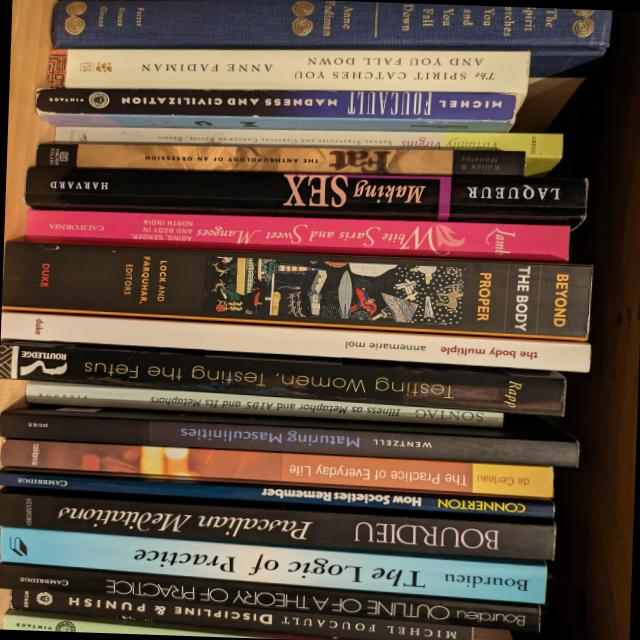book: (2, 241, 591, 341), (50, 0, 609, 79), (0, 338, 566, 416), (0, 485, 556, 562), (0, 526, 546, 604), (0, 396, 579, 467), (24, 158, 587, 228), (0, 561, 540, 632), (0, 310, 590, 373), (47, 34, 530, 110), (0, 437, 552, 498), (53, 116, 562, 177), (25, 206, 569, 262), (0, 468, 554, 518), (24, 380, 503, 433), (8, 587, 472, 640), (34, 87, 515, 132), (34, 141, 524, 177)
